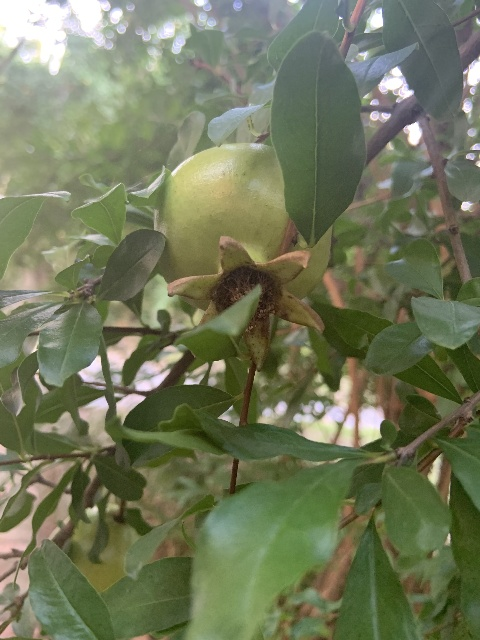mid-growth: (158, 142, 327, 372)
